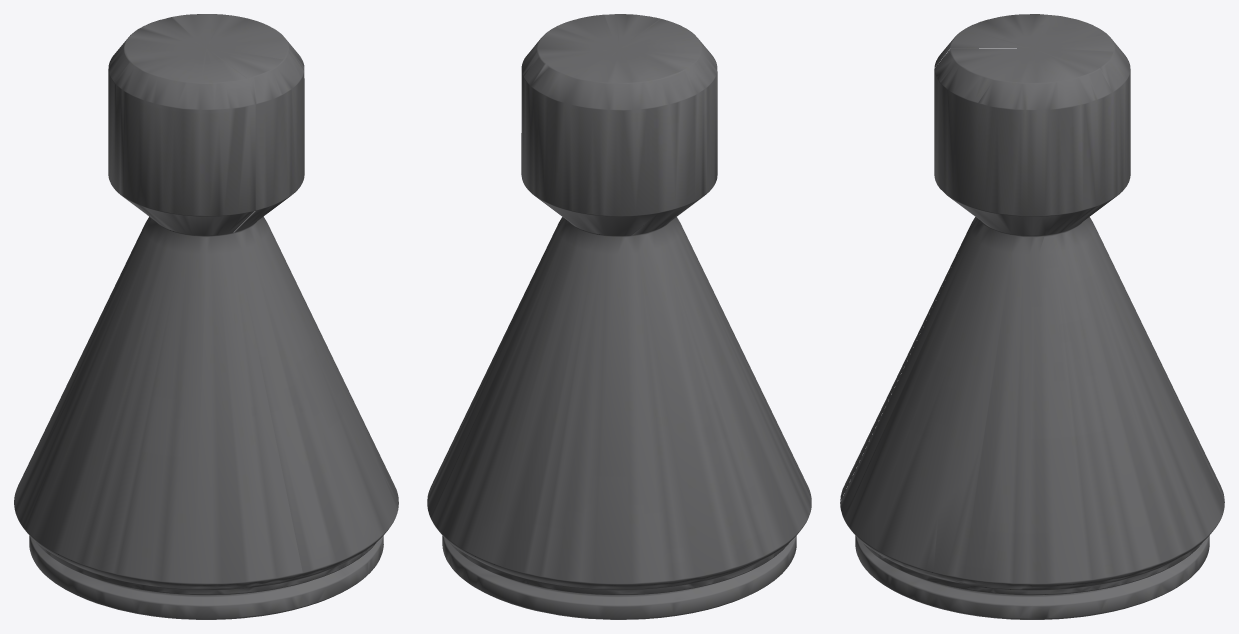
The model's file is pawn-black.glb.
3 views of the same model, side by side, from view 1: azimuth 30°, elevation 25°; view 2: azimuth 150°, elevation 25°; view 3: azimuth 270°, elevation 25° (orthographic).
Visible parts, largest first — view 1: 06_pesec_cerna; view 2: 06_pesec_cerna; view 3: 06_pesec_cerna.
Part boxes in pixels (x1,y1,x2,y2): 06_pesec_cerna: [14, 14, 398, 619]; 06_pesec_cerna: [427, 14, 811, 619]; 06_pesec_cerna: [840, 14, 1224, 619].
Bounding box in the file's own units: 0.6157 × 0.88 × 0.6157.
1 material, 1 textured.
